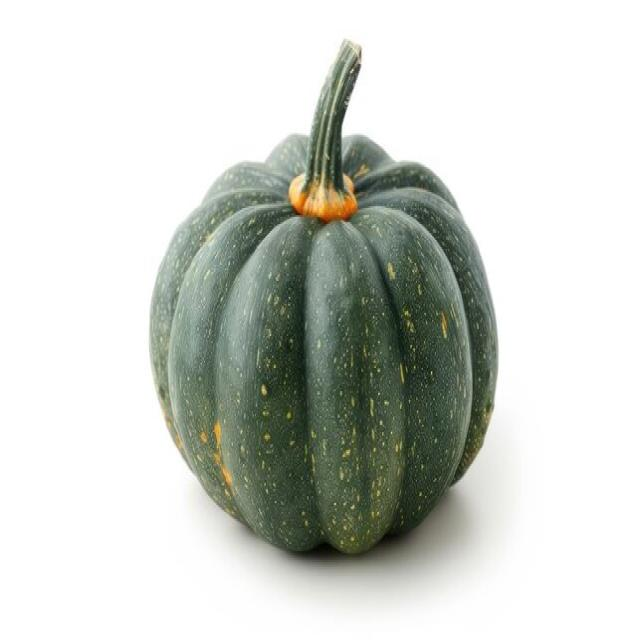Pumpkin: (148, 34, 500, 556)
